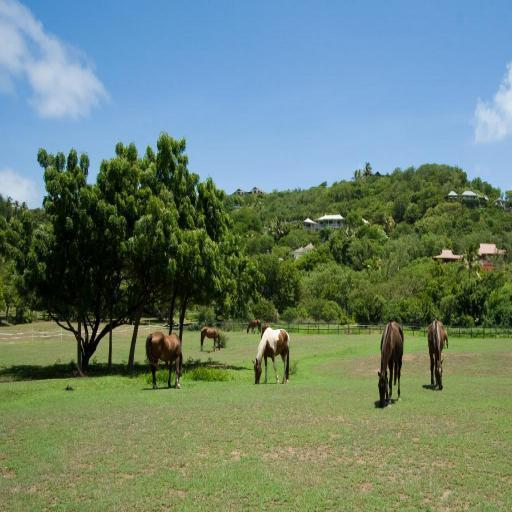horse: (376, 318, 404, 404), (146, 331, 183, 389), (252, 328, 290, 384), (428, 318, 446, 392), (200, 327, 221, 353), (246, 316, 262, 337)
